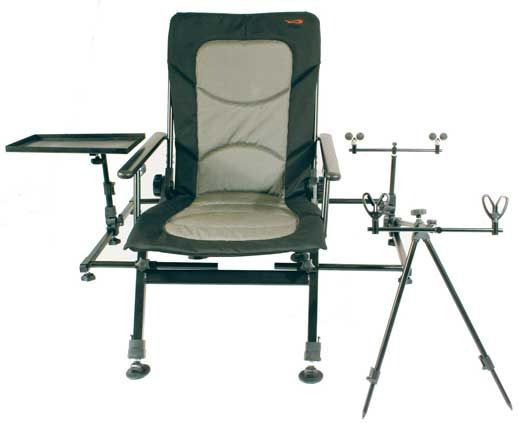chairs: (114, 10, 345, 383)
